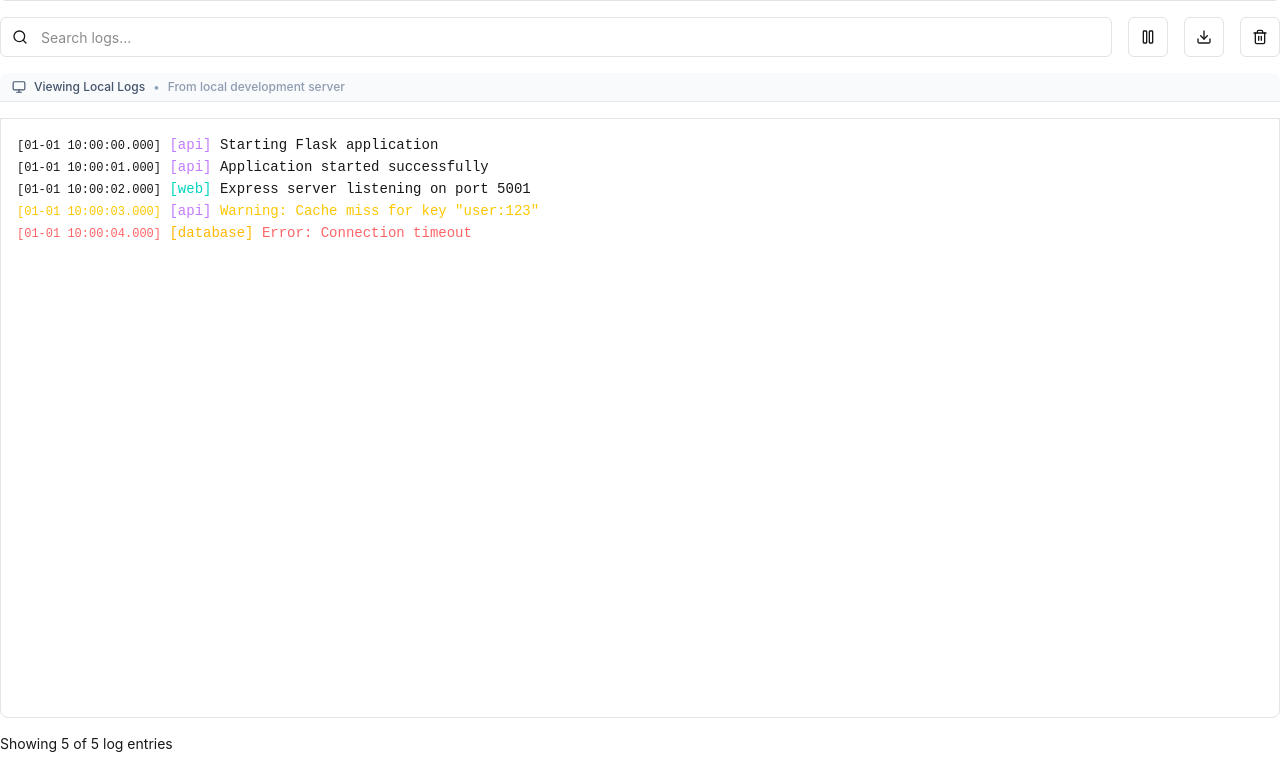
Test case: LogsView › should show jump to bottom button when paused
Expected: the text "Starting Flask application" is shown, x1=220 y1=137 x2=438 y2=153
Click the button titled "Pause": click(1148, 37) x1=1128 y1=17 x2=1168 y2=57
(page scrolled)
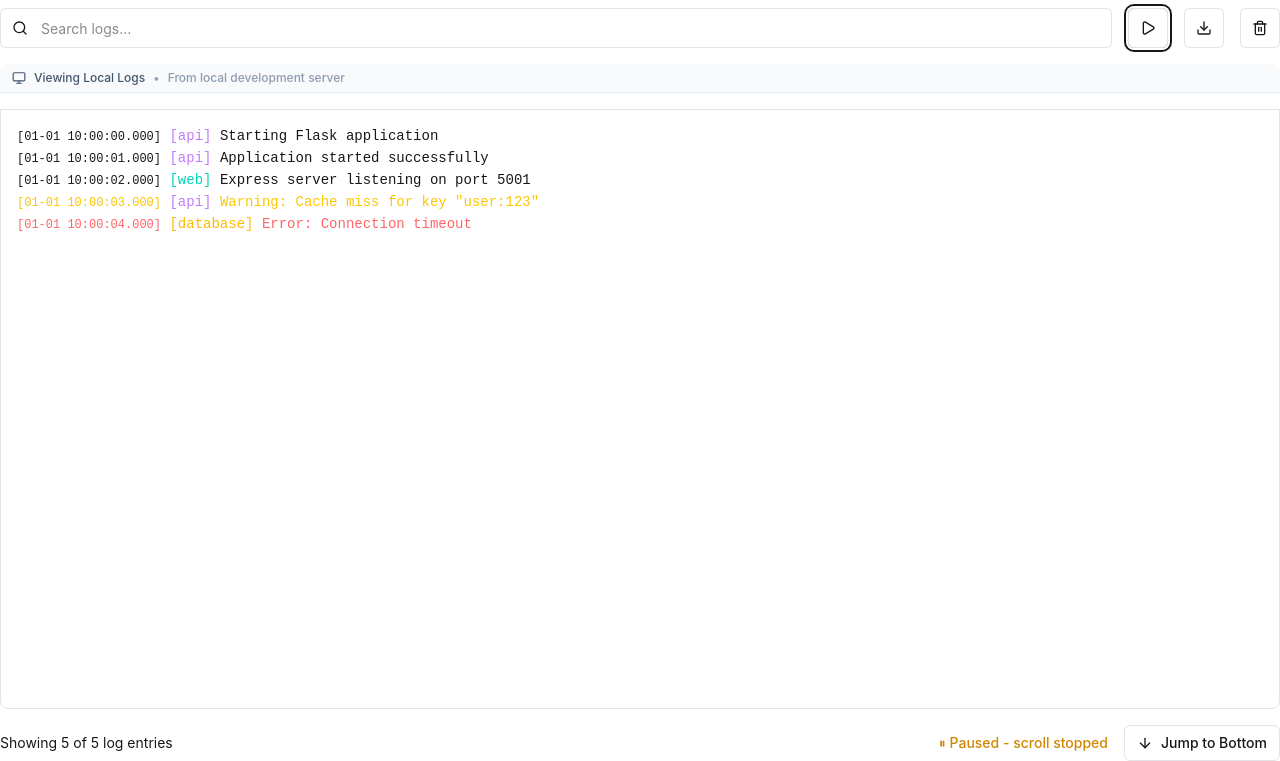
Result: the button "Jump to Bottom" is shown at x1=1124 y1=725 x2=1279 y2=760
